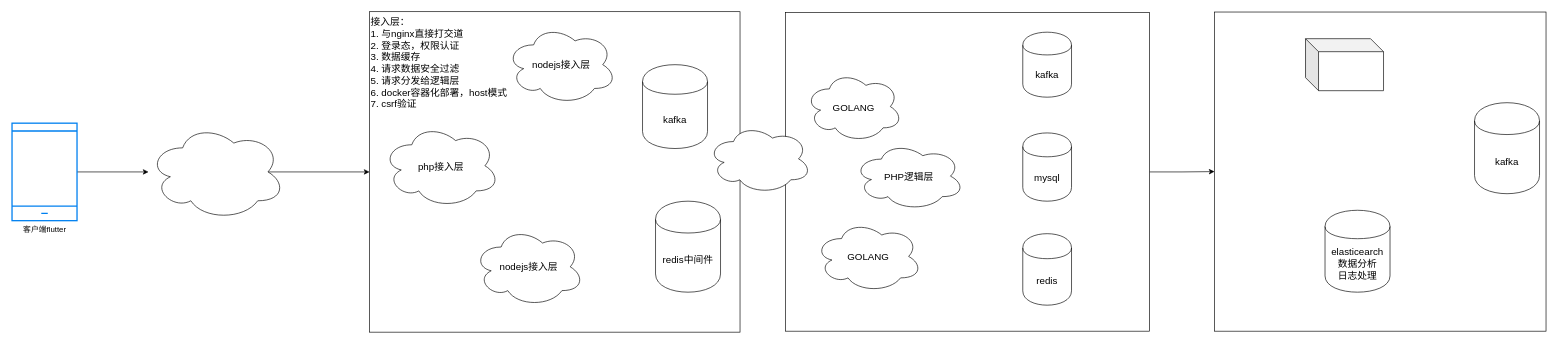
Some shapes in this 1557 by 343 pixel diagram are drawn without their labels. Here are the shapes that lost their labels. From the top down, the box of each, then its label:
(1305, 38, 1384, 91): 后台逻辑调度器
(148, 123, 285, 220): 网关tengine/nginx 负载均衡+限流+防护 +防御等等+心跳健康检查
(707, 124, 812, 194): 逻辑层网关
(785, 12, 1150, 331): 逻辑层： 1. 如数据库直接打交道 2. 数据接口 3. docker容器化部署，host模式，之后可以k8s 4. 内网隔绝
